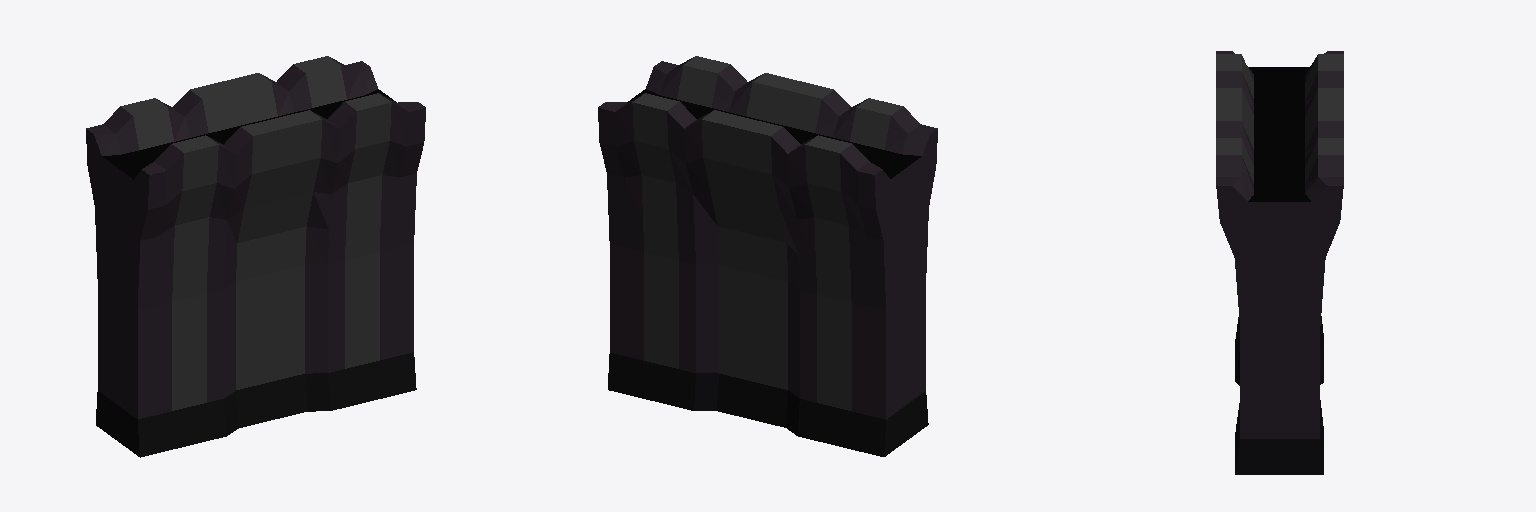
The model's file is CastleWall.obj.
The picture shows the model from 3 angles: view 1: azimuth 30°, elevation 25°; view 2: azimuth 150°, elevation 25°; view 3: azimuth 270°, elevation 25°; orthographic projection.
Parts seen in each view (by area): view 1: Cube; view 2: Cube; view 3: Cube.
Part boxes in pixels (left/top/right/bottom): Cube: left=86, top=56, right=425, bottom=457; Cube: left=598, top=56, right=937, bottom=456; Cube: left=1216, top=51, right=1343, bottom=474.
Bounding box in the file's own units: 8 × 8.38 × 3.2.